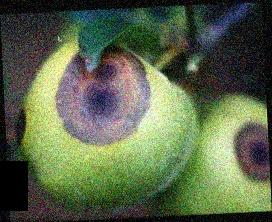rotten apple: (14, 27, 196, 211), (163, 89, 267, 213)
